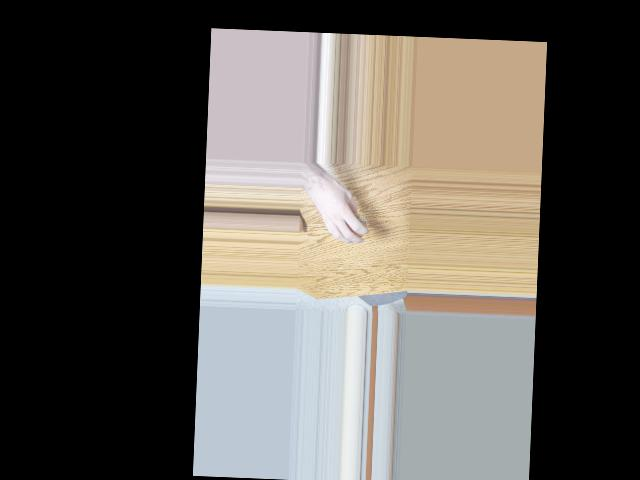onion: (341, 213, 367, 238)
